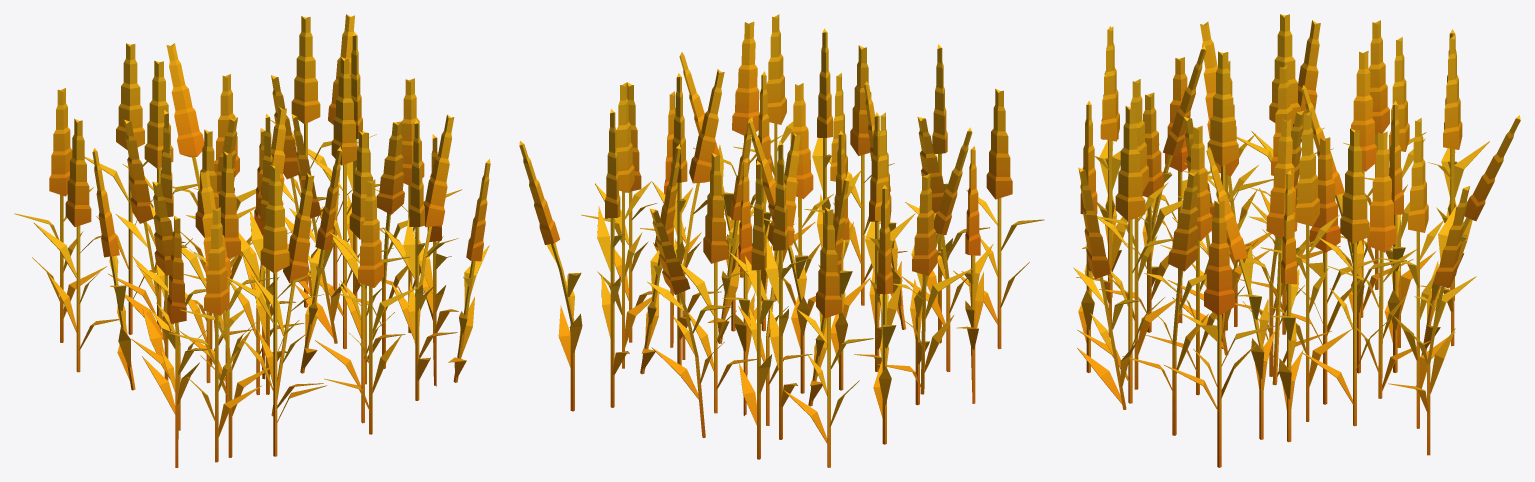
Rendered from FBX_Wheat.fbx.
3 views of the same model, side by side, from view 1: azimuth 30°, elevation 25°; view 2: azimuth 150°, elevation 25°; view 3: azimuth 270°, elevation 25° (orthographic). The views are drawn at different scales.
Parts seen in each view (by area): view 1: M_Wheat; view 2: M_Wheat; view 3: M_Wheat.
Part boxes in pixels (x1,y1,x2,y2): M_Wheat: (14, 14, 490, 467); M_Wheat: (519, 14, 1044, 467); M_Wheat: (1073, 14, 1520, 467).
Size of the model in its own units: 110 by 88.65 by 109.
